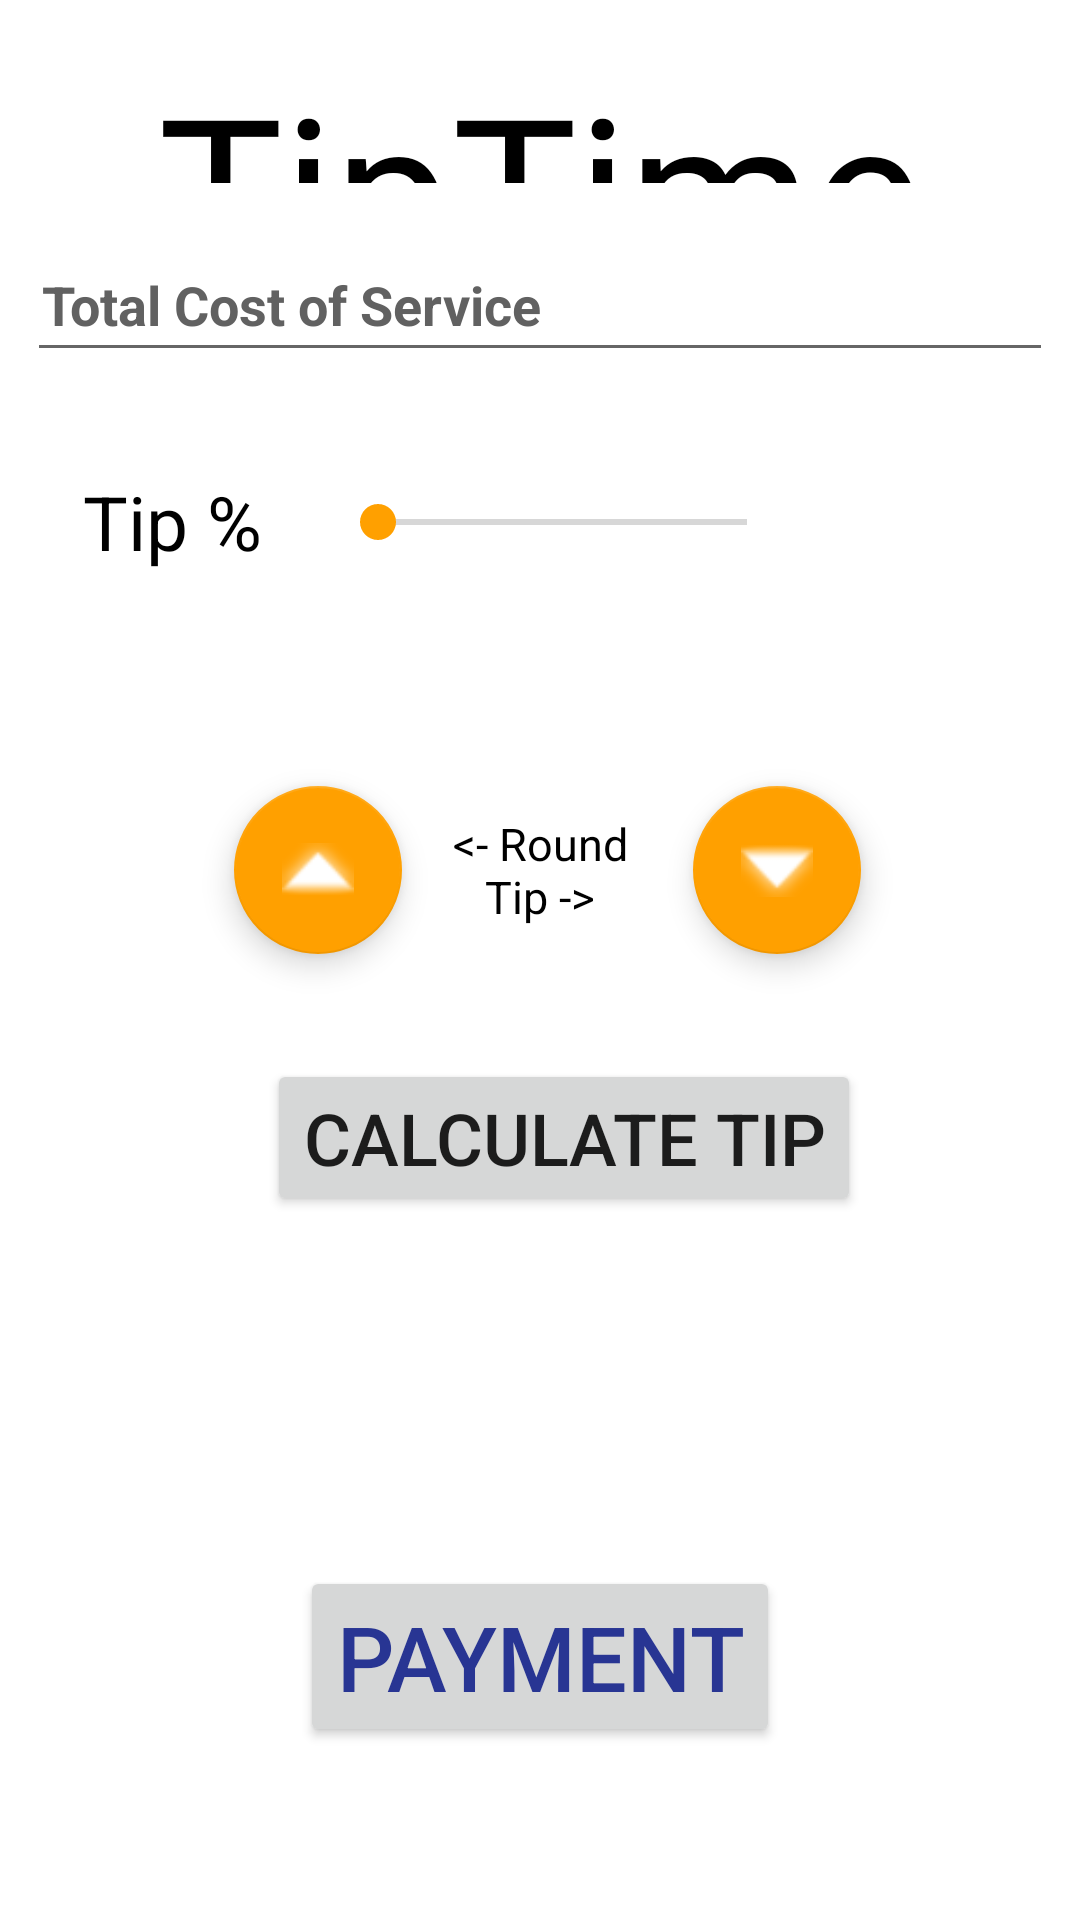

Point at icon controls on the screen. Image size 1080×1920, points as point (x, y).
Round Down: point (777, 870)
Round Up: point (318, 870)
